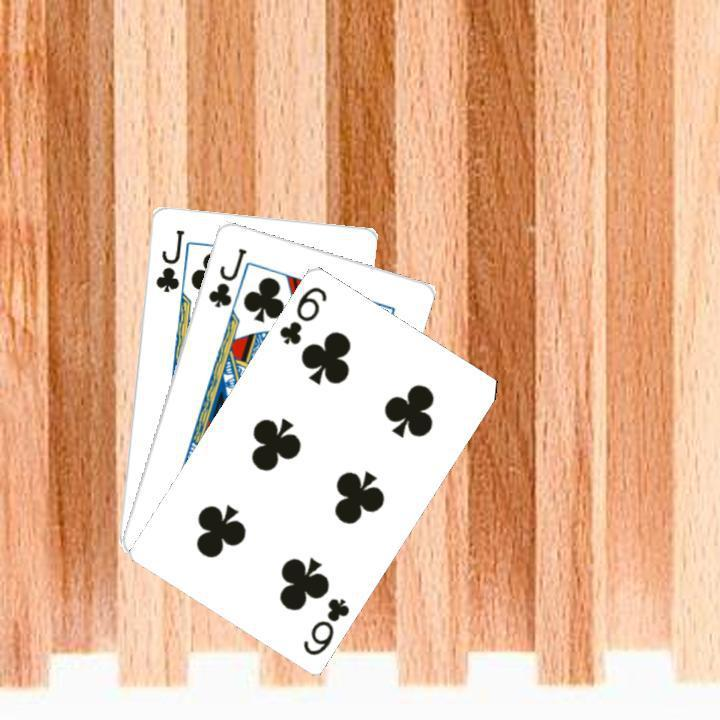6: (274, 281, 329, 346), (298, 593, 352, 657)
J: (203, 243, 248, 309), (150, 224, 186, 294)
